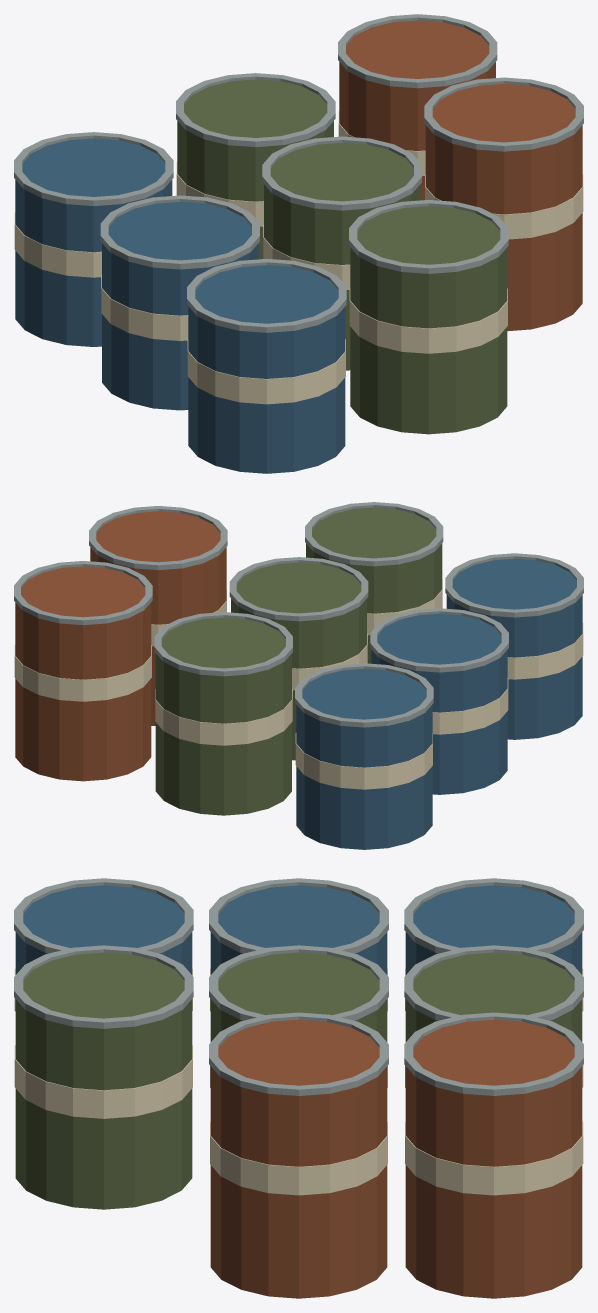
File: YARD_Cans.glb
3 views of the same model, one above another, from view 1: azimuth 30°, elevation 25°; view 2: azimuth 150°, elevation 25°; view 3: azimuth 270°, elevation 25° (orthographic). The views are drawn at different scales.
Parts seen in each view (by area): view 1: Tin0, Tin1, Tin2, TopRims, PaperBands; view 2: Tin0, Tin1, Tin2, TopRims, PaperBands; view 3: Tin2, Tin1, Tin0, TopRims, PaperBands.
Boxes of the visible parts, left/top/right/bottom form: Tin0: left=15, top=138, right=345, bottom=473; Tin1: left=177, top=79, right=507, bottom=434; Tin2: left=339, top=20, right=582, bottom=331; TopRims: left=14, top=14, right=583, bottom=332; PaperBands: left=14, top=111, right=583, bottom=404; Tin0: left=296, top=558, right=582, bottom=849; Tin1: left=155, top=507, right=442, bottom=815; Tin2: left=15, top=511, right=226, bottom=781; TopRims: left=14, top=502, right=583, bottom=727; PaperBands: left=14, top=579, right=583, bottom=789; Tin2: left=210, top=1019, right=582, bottom=1298; Tin1: left=15, top=952, right=582, bottom=1209; Tin0: left=15, top=885, right=582, bottom=974; TopRims: left=14, top=878, right=583, bottom=1095; PaperBands: left=14, top=968, right=583, bottom=1195.
Bounding box in the file's own units: 0.774 × 0.2965 × 0.7304.
